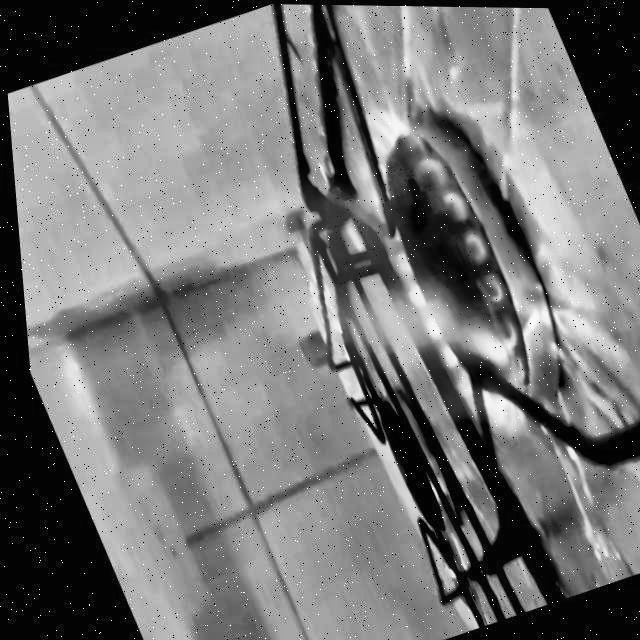Fire: (103, 73, 567, 527)
